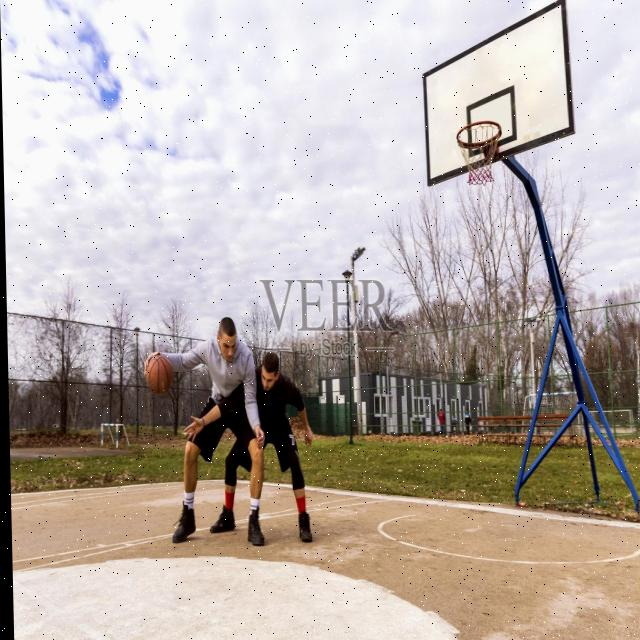basketball: (146, 354, 174, 394)
hoop: (457, 120, 504, 186)
